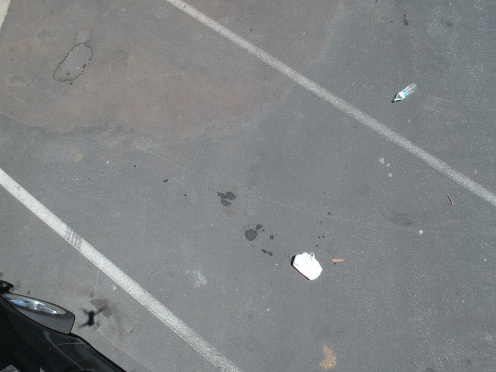bottle: (388, 77, 423, 103)
plastic bag: (286, 247, 330, 285)
